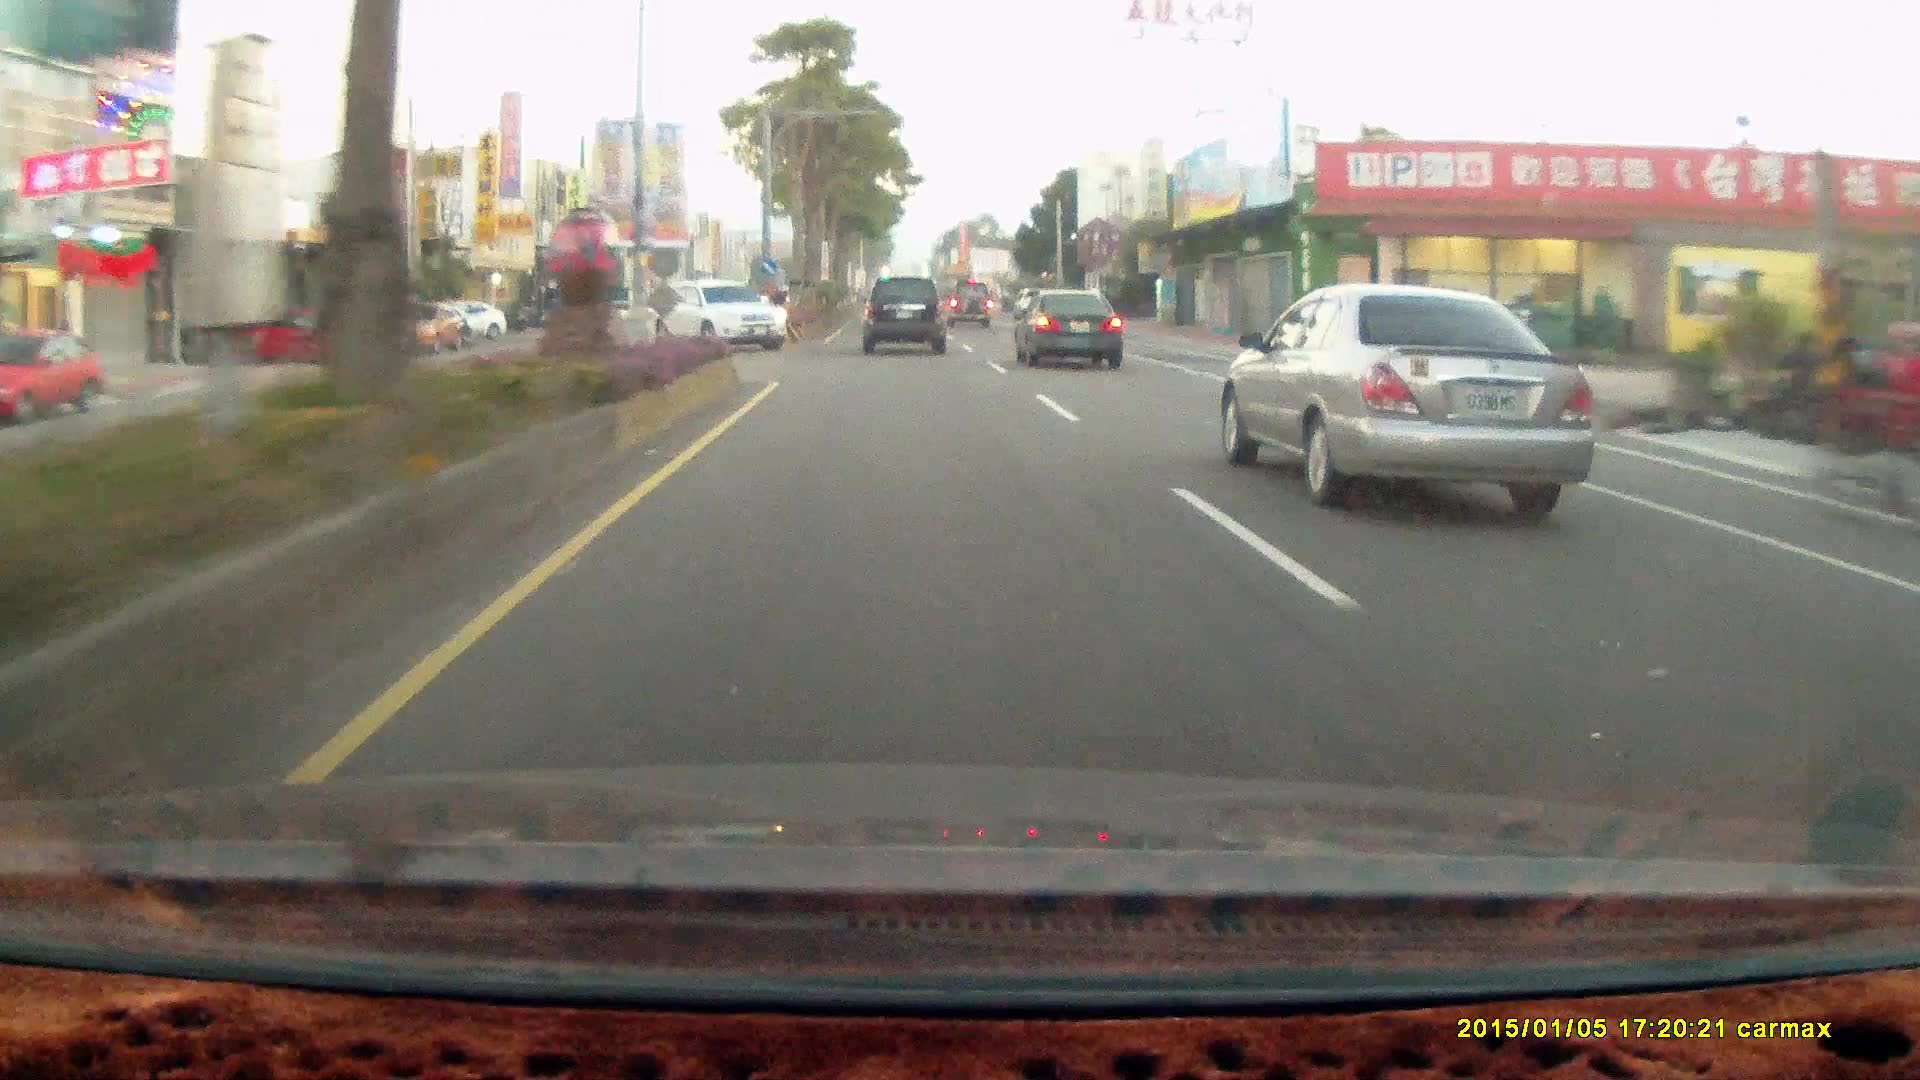pedestrian: (1879, 320, 1920, 513)
vehicle: (1213, 282, 1608, 528), (1012, 287, 1130, 374), (648, 279, 788, 352), (218, 309, 386, 367), (1, 329, 106, 422), (218, 309, 385, 367), (1011, 283, 1122, 365), (670, 279, 793, 353), (861, 278, 953, 356), (861, 274, 944, 352), (378, 301, 465, 353), (429, 300, 508, 341), (944, 280, 995, 329), (944, 278, 994, 327)
